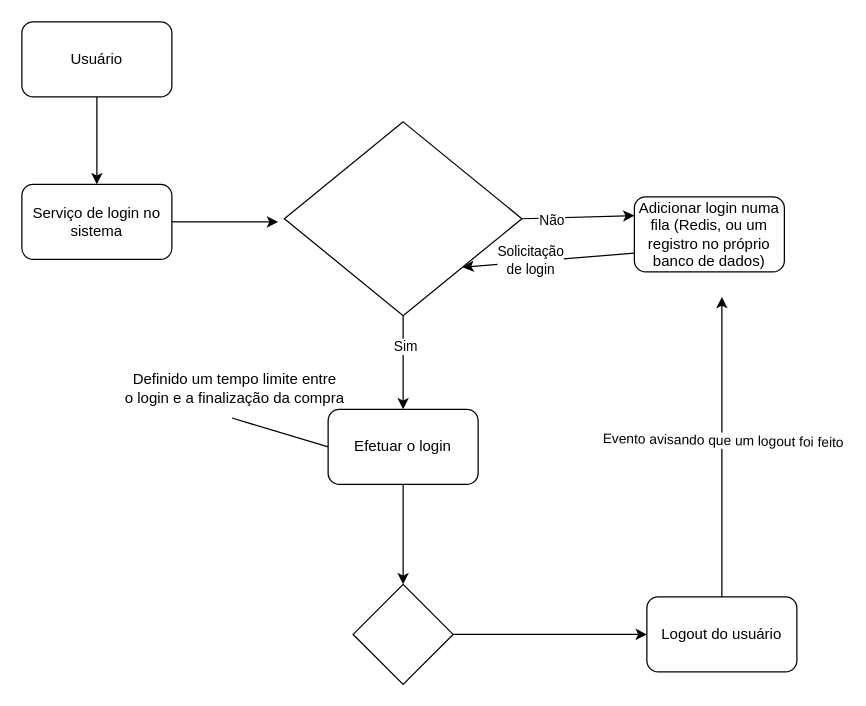
This 866x706 diagram has some shape labels left out. Here are the shapes that lost their labels. From the top down, the centre of each, then its label:
pixel 402 218: O número de pessoas logadas é menor do que o número de ingressos atual?
pixel 402 633: Usuário finalizou a compra ou o tempo acabou?
